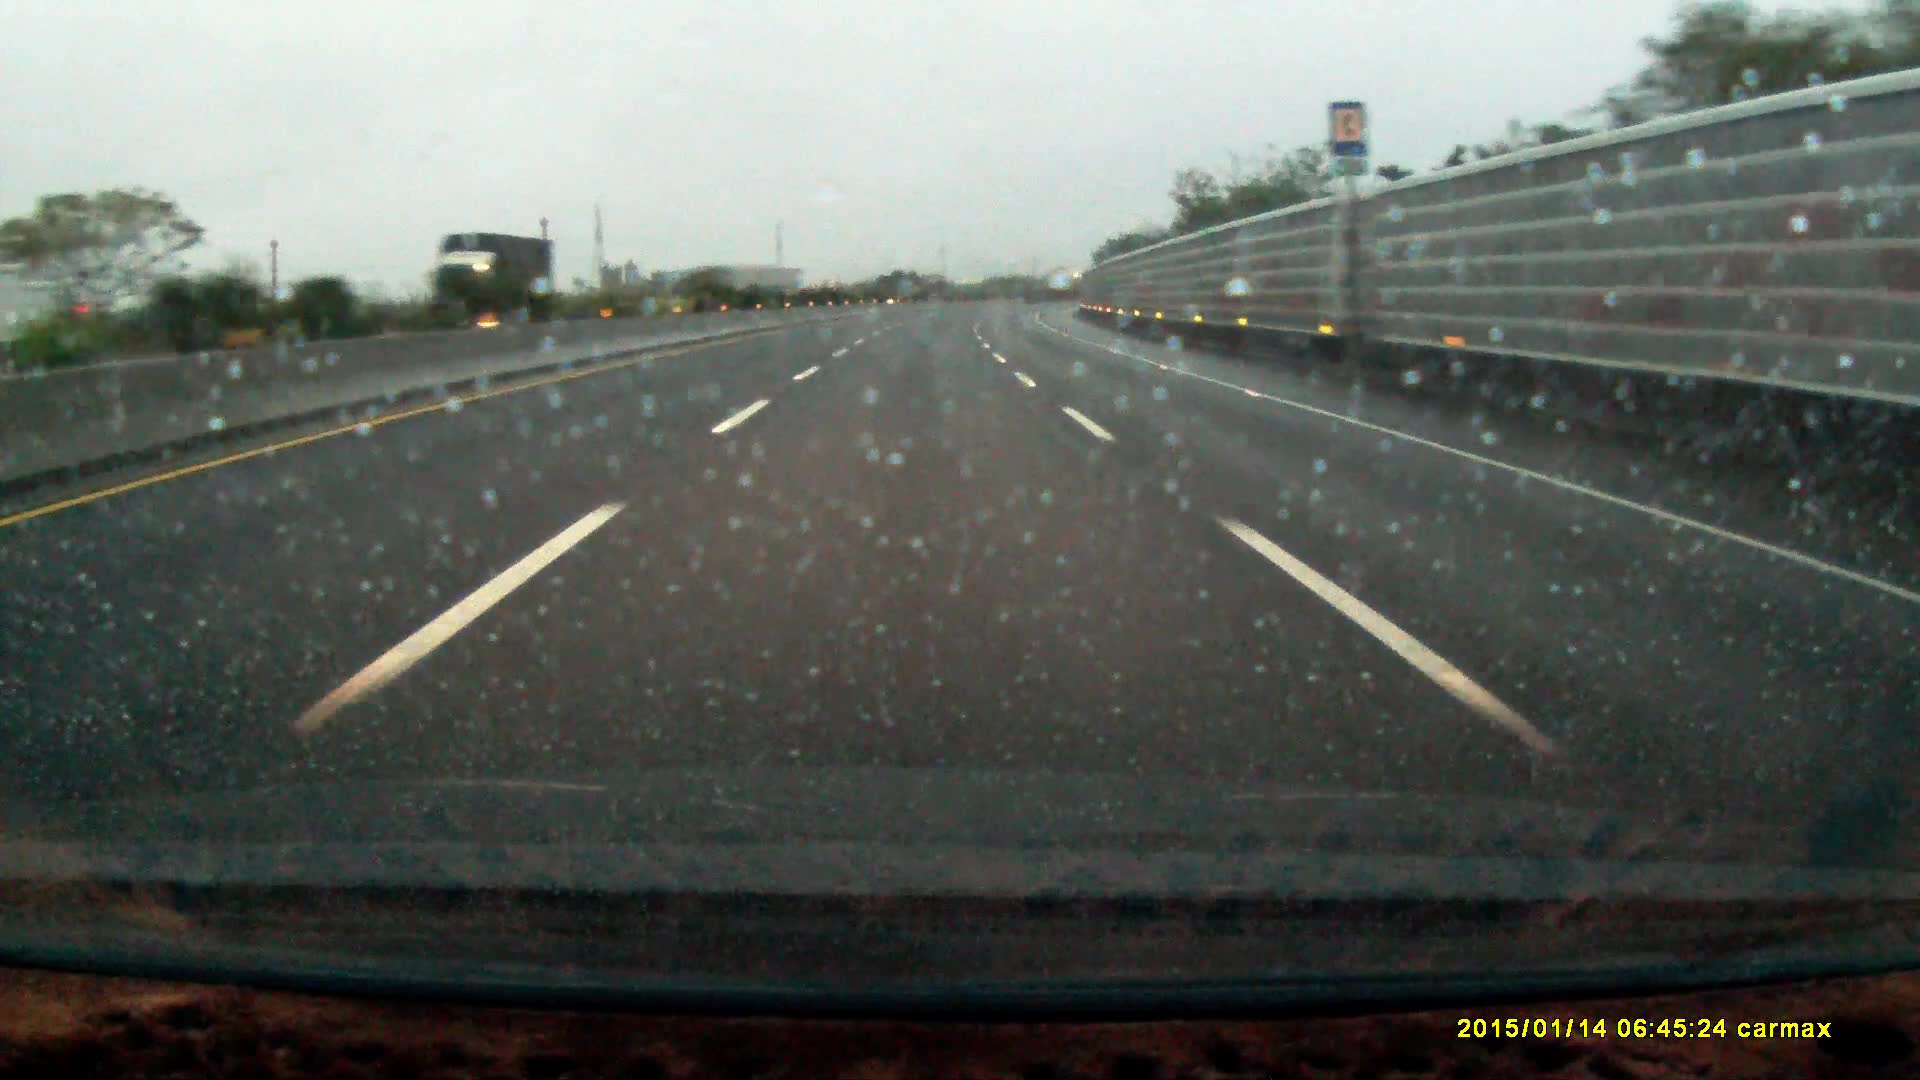vehicle: (427, 231, 558, 328)
